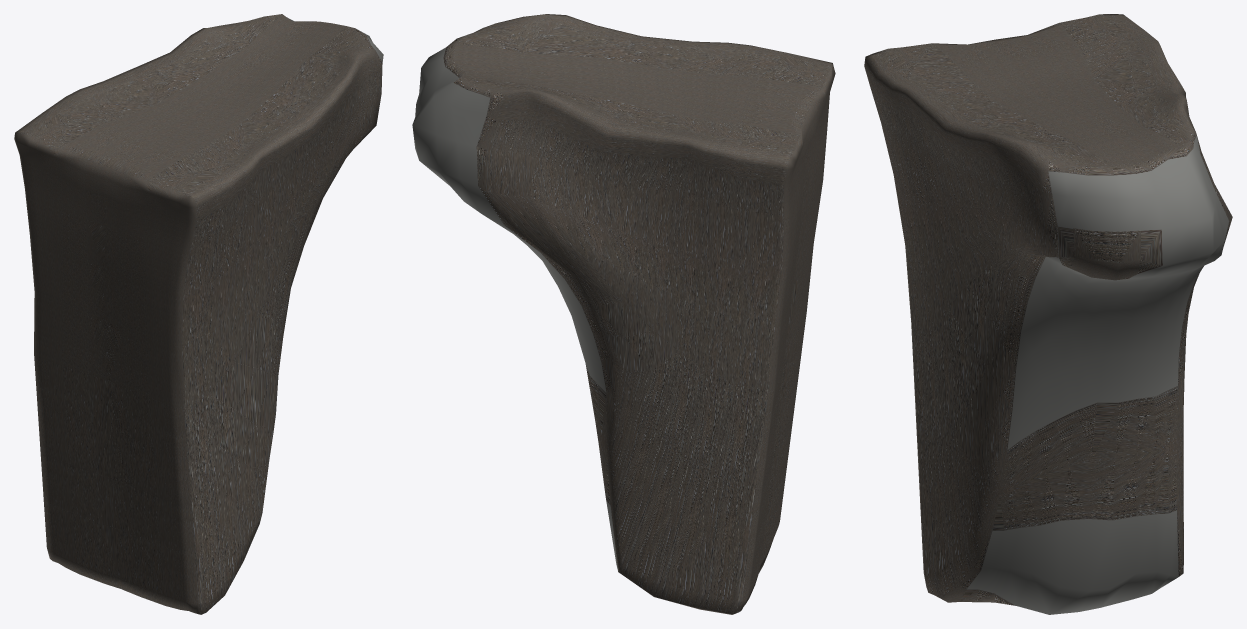
The model's file is cavesb_bridge_broken.dae.
3 views of the same model, side by side, from view 1: azimuth 30°, elevation 25°; view 2: azimuth 150°, elevation 25°; view 3: azimuth 270°, elevation 25° (orthographic). The views are drawn at different scales.
Visible parts, largest first — view 1: bridge; view 2: bridge; view 3: bridge.
Boxes of the visible parts, left/top/right/bottom form: bridge: left=14, top=14, right=383, bottom=614; bridge: left=412, top=14, right=835, bottom=614; bridge: left=864, top=14, right=1232, bottom=614.
Size of what is drawn, in the model's own units: 3.27 by 4.23 by 2.51.
